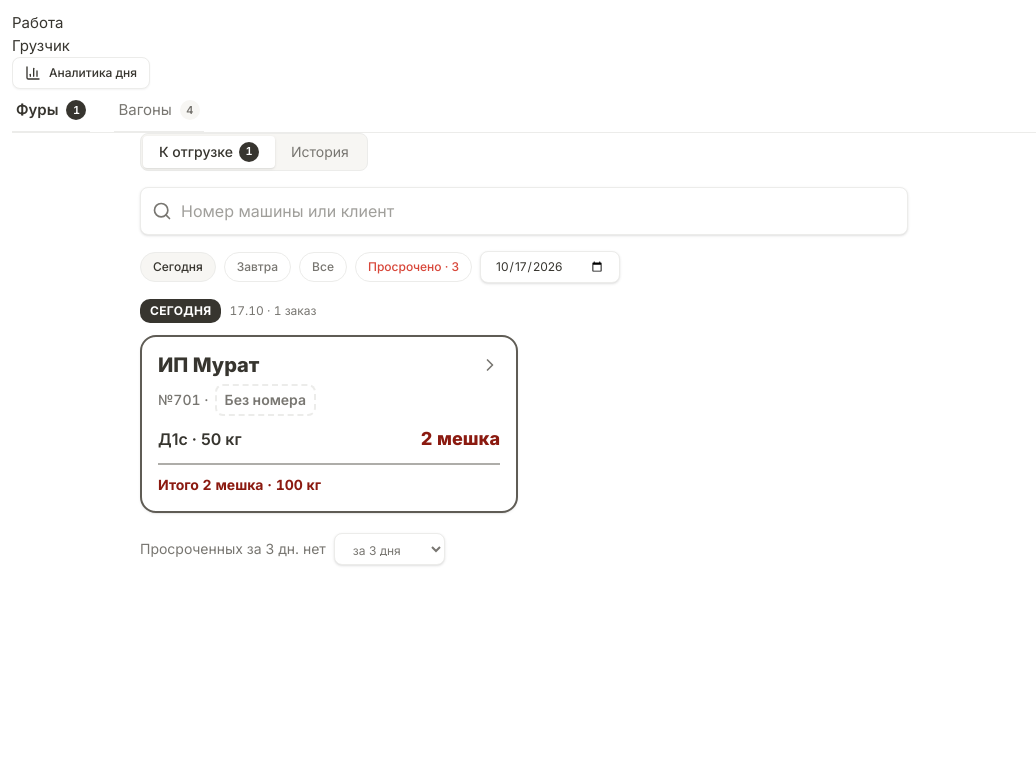
Scenario: LoaderPage › просрочка за последние дни под «Сегодня» › просрочки за окно нет — тихая строка с выбором окна, чтобы расширить
expect the text "Просроченных за 3 дн. нет" is shown: met, box [140,538,326,558]
Select "за 14 дней" in the dropdown named "Просроченные за" at [389, 548], box [334,532,445,564]
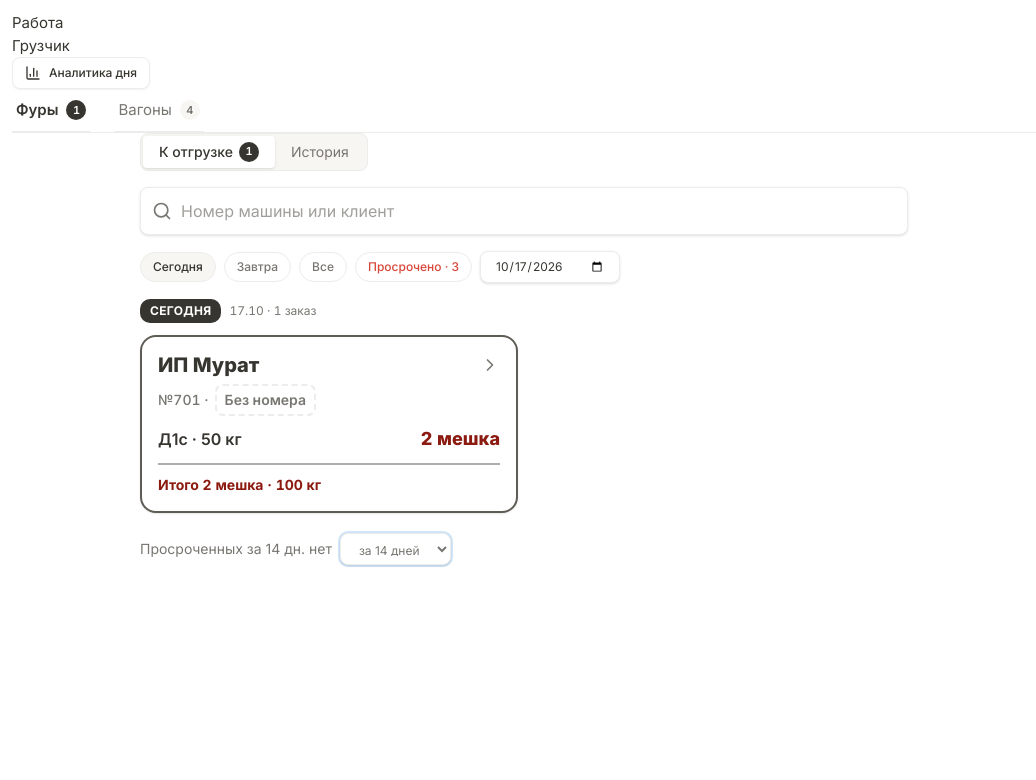
expect the text "Просроченных за 14 дн. нет" is shown: met, box [140,538,332,558]
